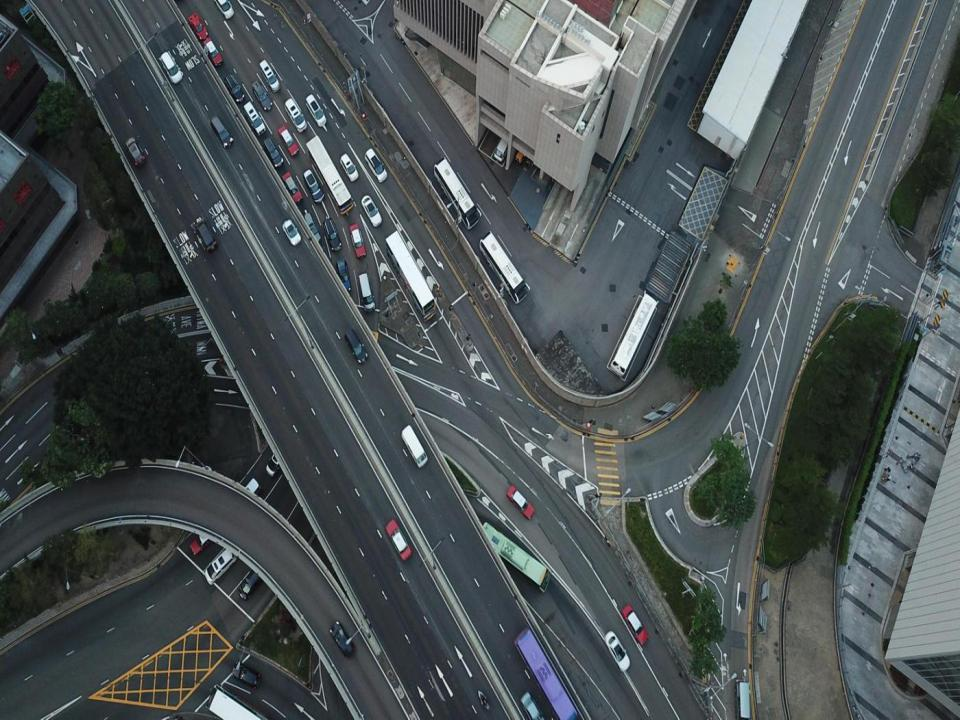bus: (514, 628, 578, 719), (475, 522, 550, 592), (385, 228, 436, 321), (610, 290, 658, 378), (305, 134, 353, 214), (479, 231, 530, 304), (433, 156, 479, 228), (206, 684, 272, 719), (734, 679, 749, 719)
car: (238, 559, 267, 600), (386, 518, 412, 560), (604, 630, 630, 672), (329, 620, 356, 659), (622, 605, 647, 644), (506, 484, 534, 516), (364, 147, 388, 183), (189, 524, 216, 554), (264, 443, 289, 475), (232, 661, 260, 689), (161, 50, 183, 84), (284, 98, 306, 132), (303, 167, 324, 202), (361, 194, 381, 228), (306, 94, 326, 127), (302, 213, 321, 246), (259, 61, 279, 92), (279, 124, 298, 156), (323, 217, 341, 250), (520, 692, 542, 719), (196, 221, 215, 251), (252, 80, 271, 110), (349, 224, 366, 257), (125, 137, 145, 165), (282, 173, 302, 201), (204, 36, 222, 65), (226, 73, 244, 102), (187, 13, 207, 39), (340, 153, 358, 181), (283, 219, 301, 246), (336, 258, 350, 292), (218, 347, 240, 364), (216, 1, 234, 18)
van: (204, 542, 236, 586), (400, 424, 428, 468), (232, 477, 260, 510), (346, 327, 369, 366), (242, 102, 266, 134), (358, 272, 374, 314), (211, 116, 233, 146), (263, 138, 283, 167), (494, 132, 509, 160)
